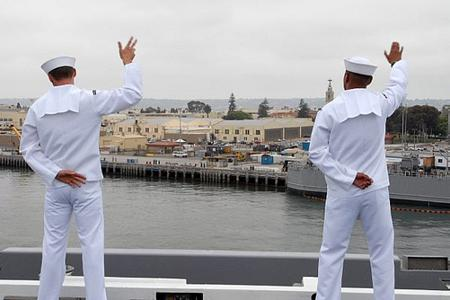person: (311, 41, 409, 300)
